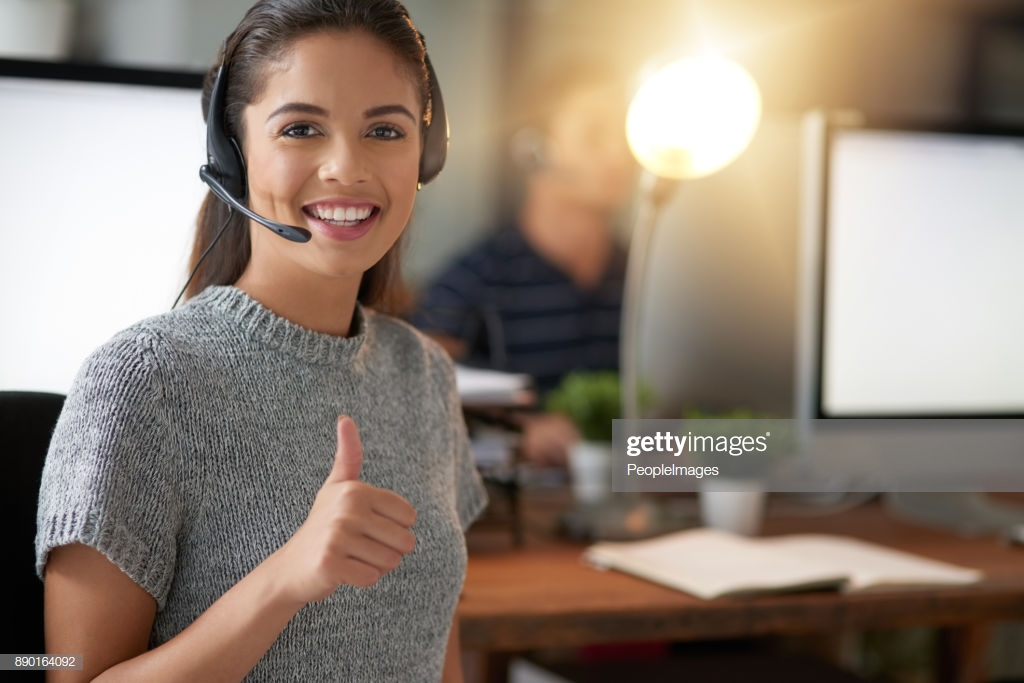thumbsup: (317, 414, 417, 588)
